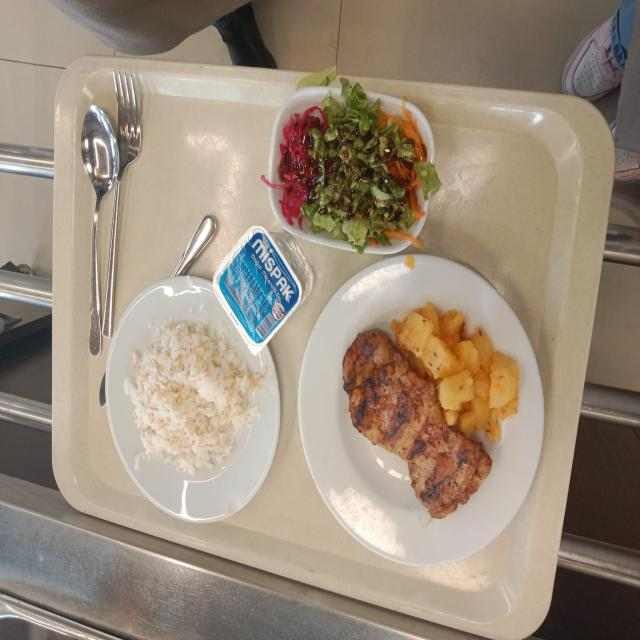ana_yemek: (321, 254, 546, 566), (103, 277, 281, 518)
yan_yemek: (313, 85, 426, 254), (268, 86, 355, 254)
